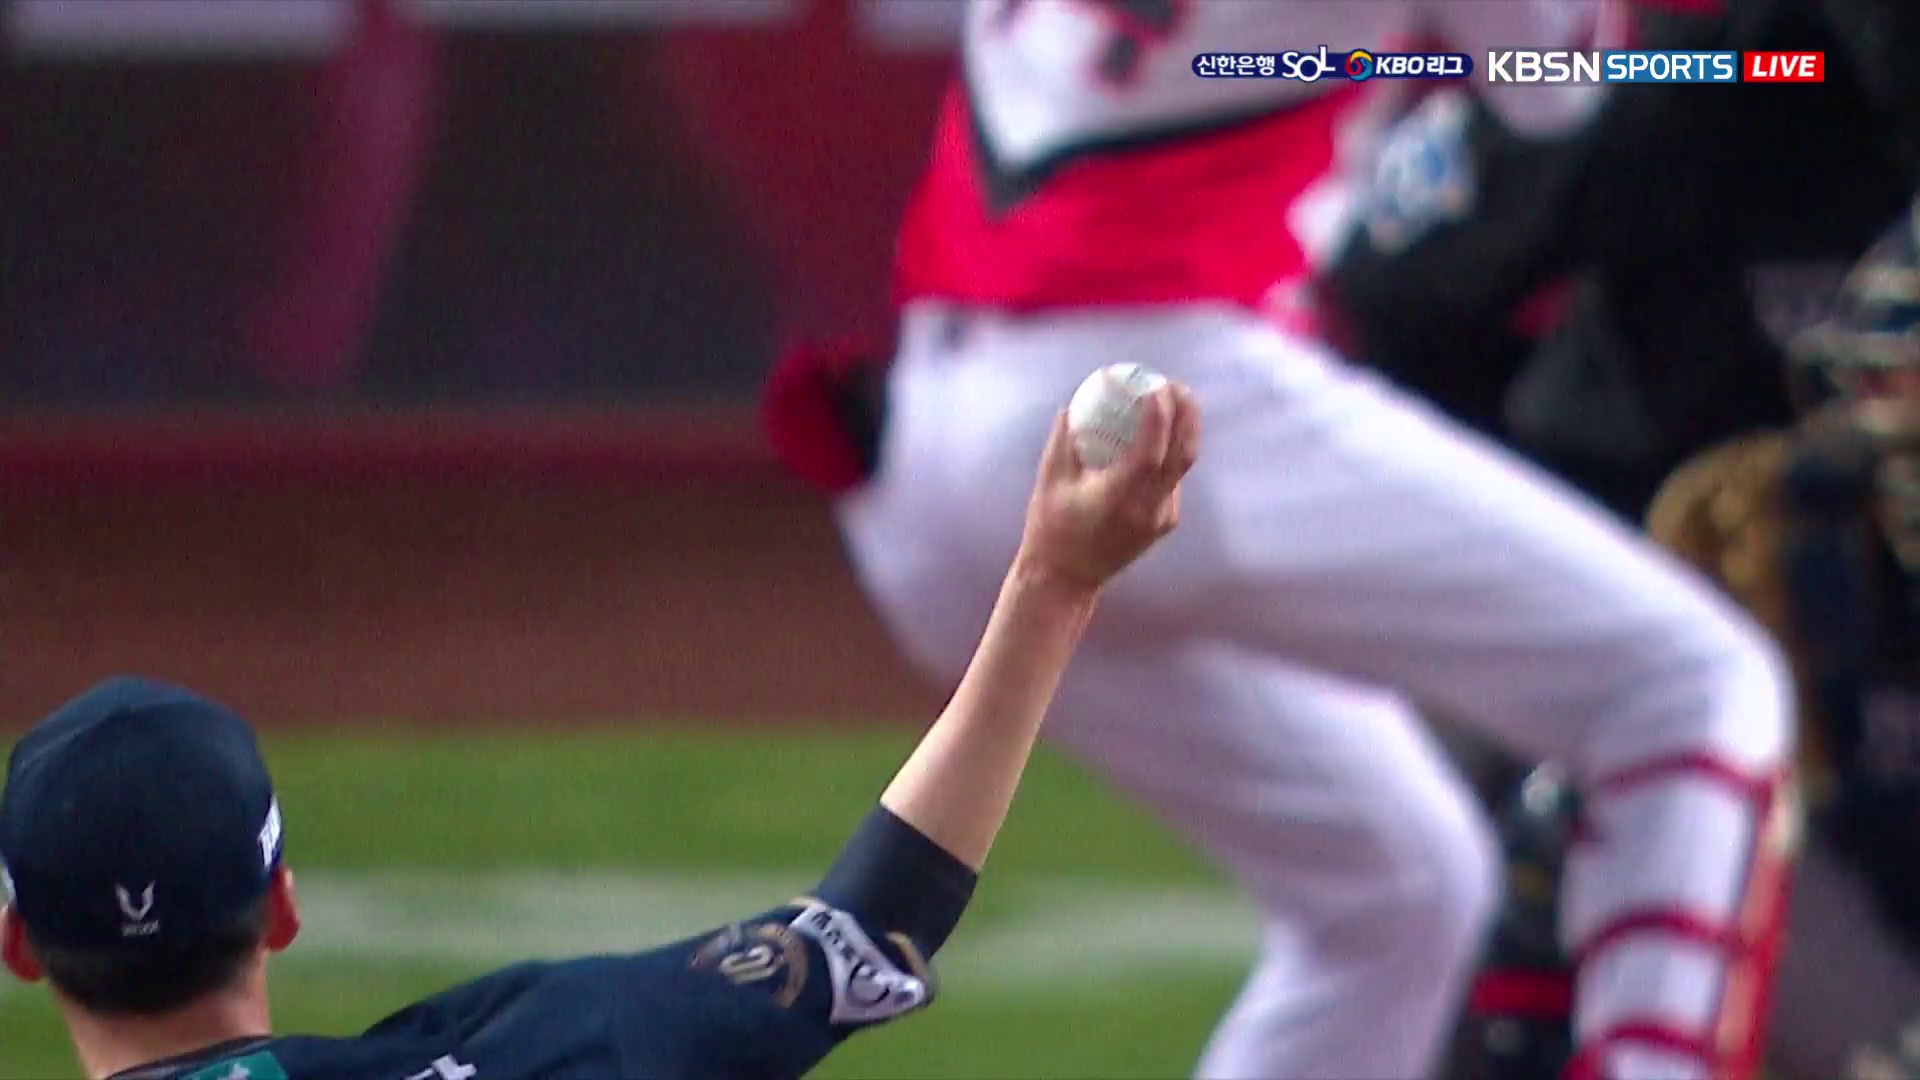zoomin_hand: (773, 356, 1208, 971)
